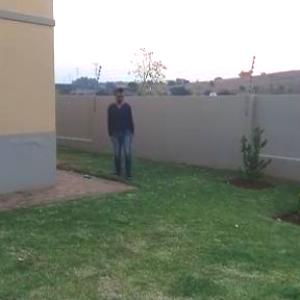follow: (103, 84, 136, 180)
